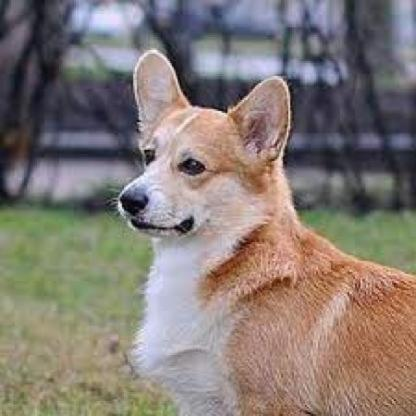dog: (108, 48, 416, 415)
